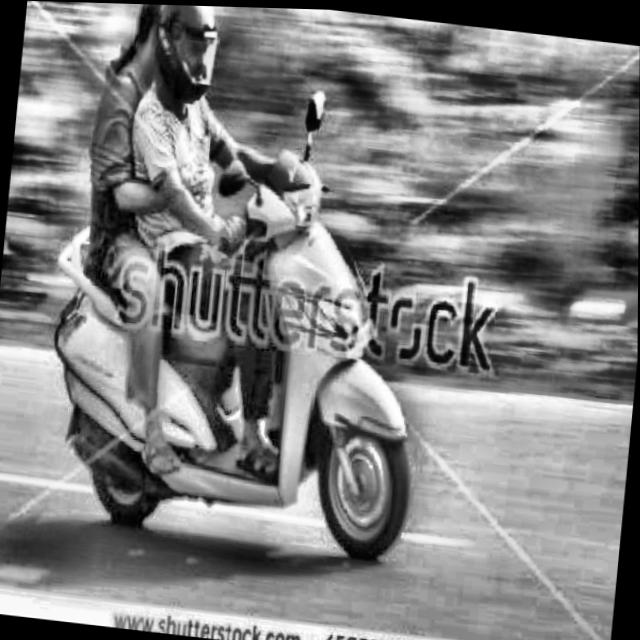motorcycle: (0, 177, 471, 577)
